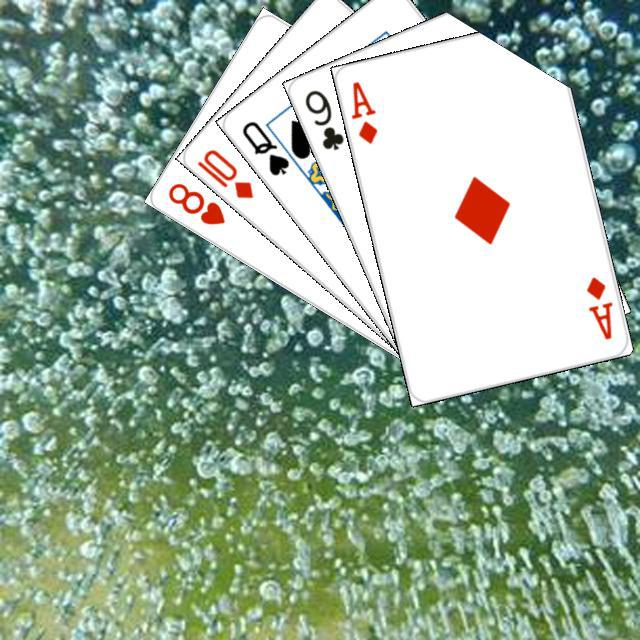10d: (192, 144, 255, 201)
8h: (162, 177, 227, 227)
9c: (299, 84, 346, 152)
Ad: (581, 272, 615, 341), (346, 76, 379, 146)
Qs: (237, 116, 291, 178)
